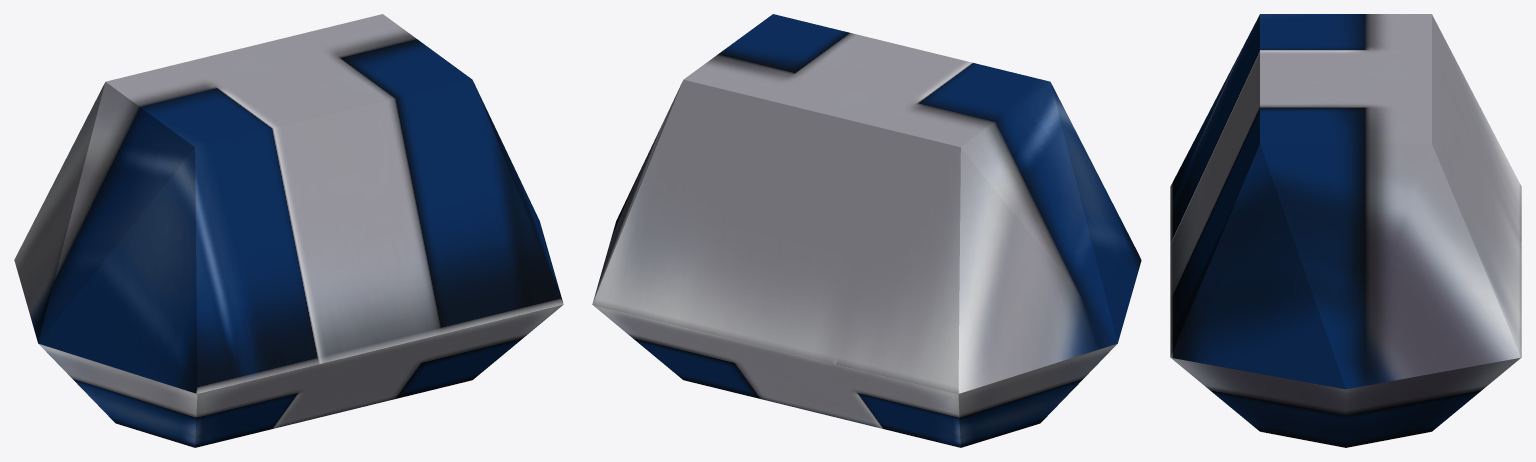
Rendered from datan_common_Hp240_b7ff84a3.obj.
3 renders of one model, left to right at view 1: azimuth 30°, elevation 25°; view 2: azimuth 150°, elevation 25°; view 3: azimuth 270°, elevation 25°, orthographic. The views are drawn at different scales.
Parts seen in each view (by area): view 1: datan_common_Hp240_b7ff84a3_mesh02, datan_common_Hp240_b7ff84a3_mesh00; view 2: datan_common_Hp240_b7ff84a3_mesh02, datan_common_Hp240_b7ff84a3_mesh00; view 3: datan_common_Hp240_b7ff84a3_mesh02, datan_common_Hp240_b7ff84a3_mesh00.
Boxes of the visible parts, bbox=[...] form: datan_common_Hp240_b7ff84a3_mesh02: bbox=[14, 14, 563, 393]; datan_common_Hp240_b7ff84a3_mesh00: bbox=[38, 305, 562, 447]; datan_common_Hp240_b7ff84a3_mesh02: bbox=[592, 14, 1141, 393]; datan_common_Hp240_b7ff84a3_mesh00: bbox=[593, 305, 1117, 447]; datan_common_Hp240_b7ff84a3_mesh02: bbox=[1170, 14, 1521, 389]; datan_common_Hp240_b7ff84a3_mesh00: bbox=[1171, 358, 1520, 447].
Size of the model in its own units: 0.9502 by 0.5441 by 0.6009.
1 material, 1 textured.
